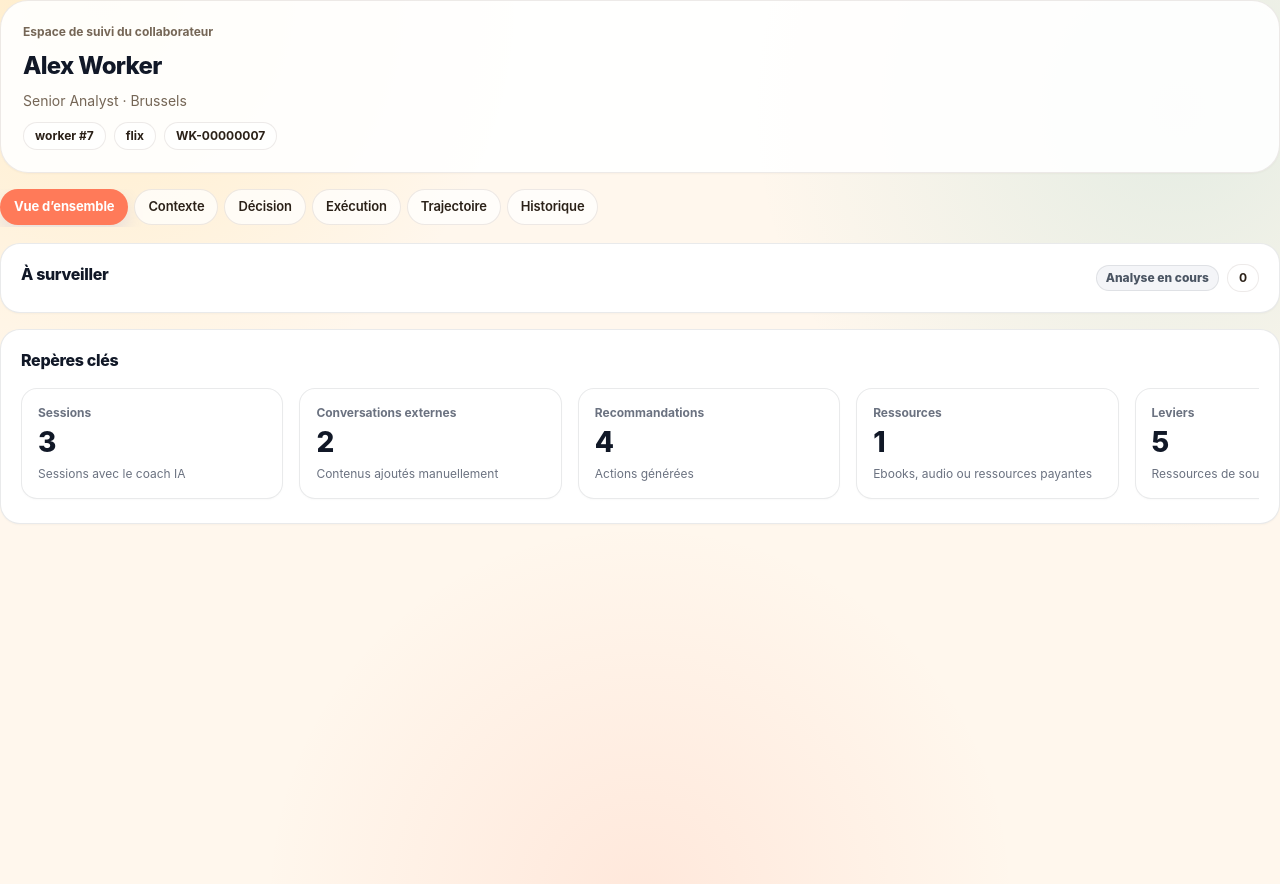
Scenario: Organization Insights internationalization › renders the worker intelligence workspace in French
Expected: the text "Conversations externes" is shown, [316,405,456,420]
Click the tab "Contexte" at (176, 207), box [134,189,218,225]
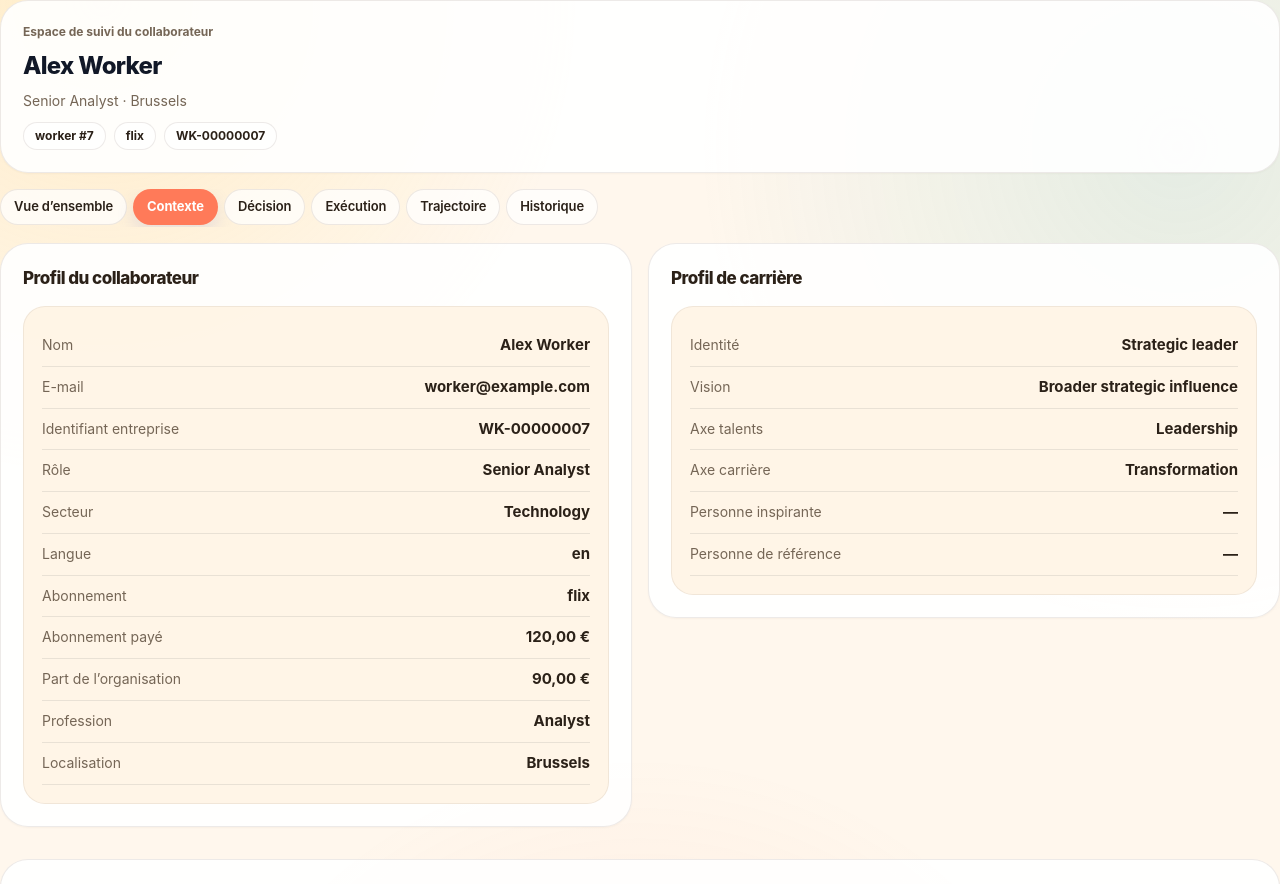
Expected: the text "Espace de suivi du collaborateur" is shown, [23,24,213,39]
Expected: the text "Profil du collaborateur" is shown, [23,268,198,288]
Expected: the text "Profil de carrière" is shown, [671,268,802,288]
Click the tab "Trajectoire" at (453, 207), box [406,189,500,225]
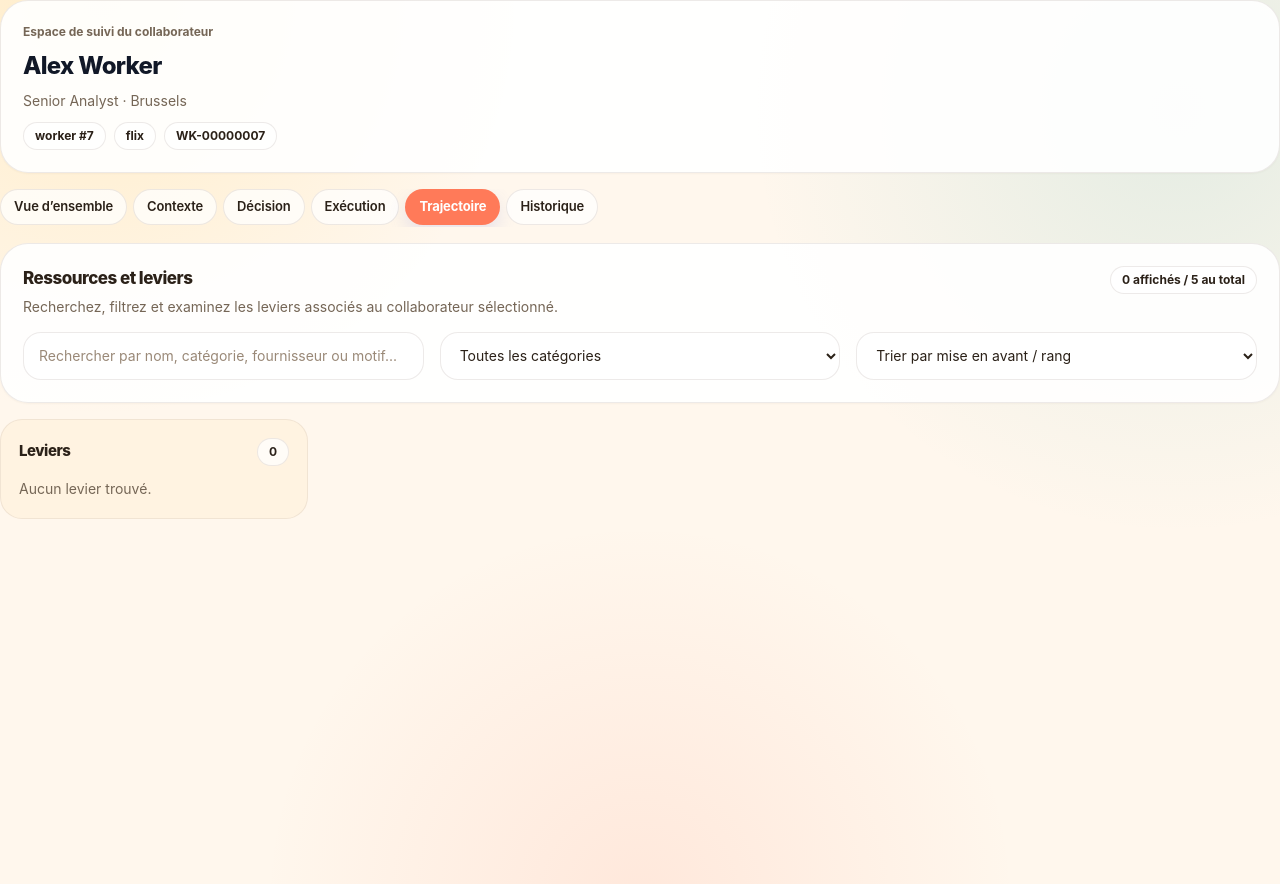
Expected: the text "Ressources et leviers" is shown, [23,268,192,288]
Expected: the field with placeholder "Rechercher par nom, catégorie, fournisseur ou motif..." is shown, [23,332,424,380]
